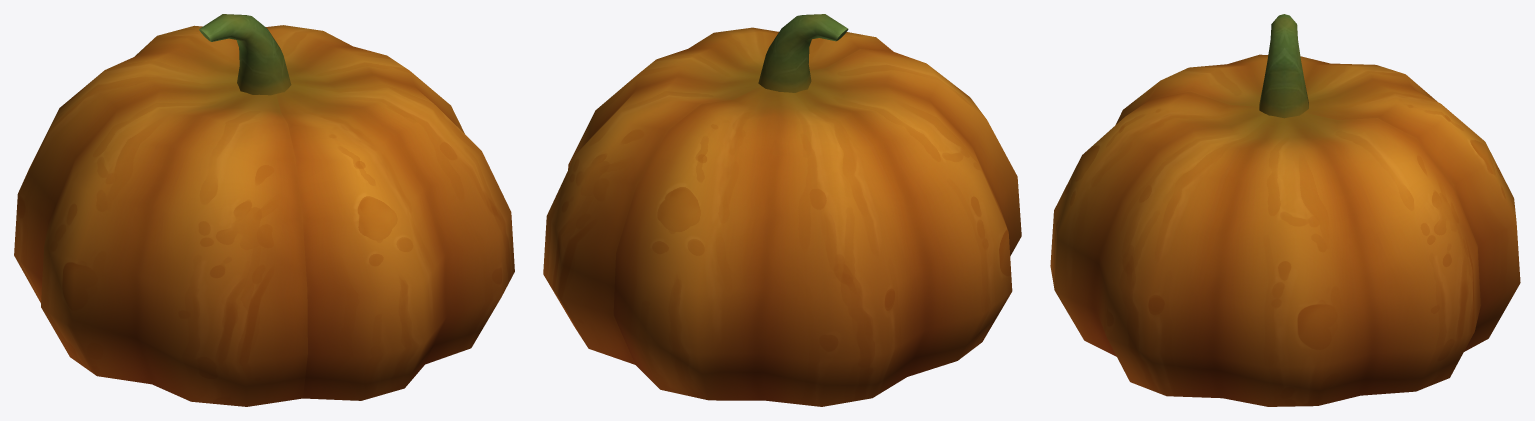
File: Pumpkin.FBX
3 renders of one model, left to right at view 1: azimuth 30°, elevation 25°; view 2: azimuth 150°, elevation 25°; view 3: azimuth 270°, elevation 25°, orthographic. The views are drawn at different scales.
Visible parts, largest first — view 1: Pumpkin; view 2: Pumpkin; view 3: Pumpkin.
Part boxes in pixels (box(x1,y1,x2,y2)): Pumpkin: box(14, 14, 514, 406); Pumpkin: box(543, 14, 1021, 406); Pumpkin: box(1050, 14, 1520, 406).
Size of the model in its own units: 82.35 by 85.5 by 65.44.
